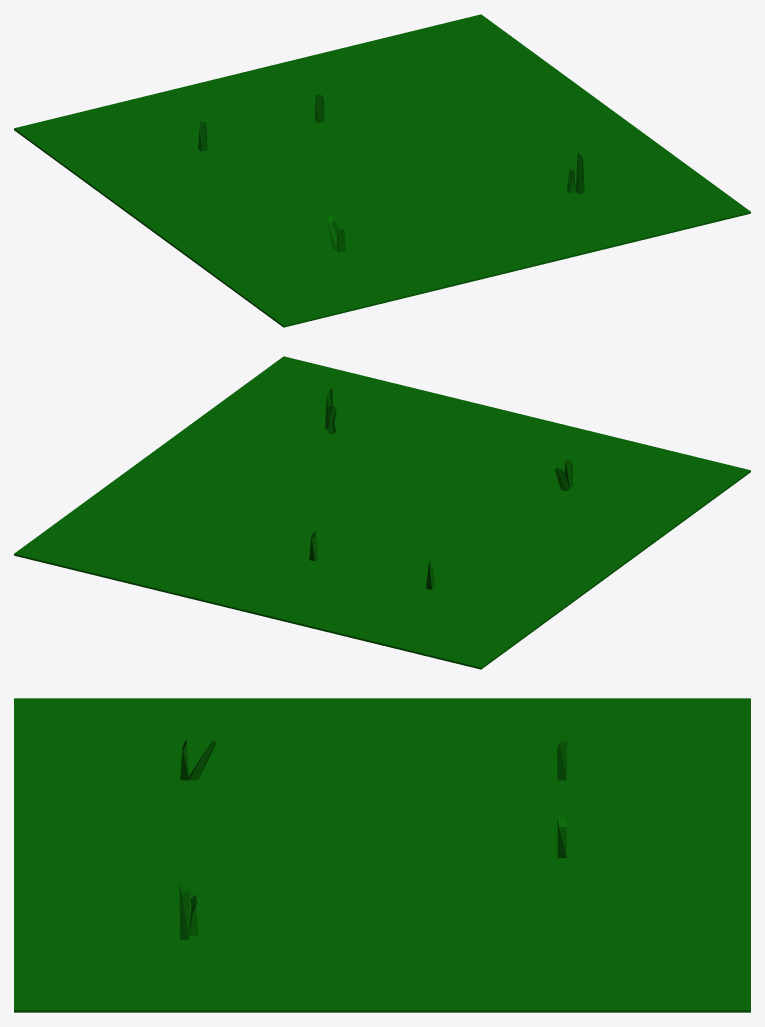
Rendered from foundation_2.0.fbx.
3 views of the same model, one above another, from view 1: azimuth 30°, elevation 25°; view 2: azimuth 150°, elevation 25°; view 3: azimuth 270°, elevation 25° (orthographic). The views are drawn at different scales.
Visible parts, largest first — view 1: Cube; view 2: Cube; view 3: Cube.
Boxes of the visible parts, left/top/right/bottom form: Cube: left=14, top=14, right=750, bottom=327; Cube: left=14, top=356, right=750, bottom=669; Cube: left=14, top=698, right=750, bottom=1012.
Bounding box in the file's own units: 40 × 3.41 × 40.
